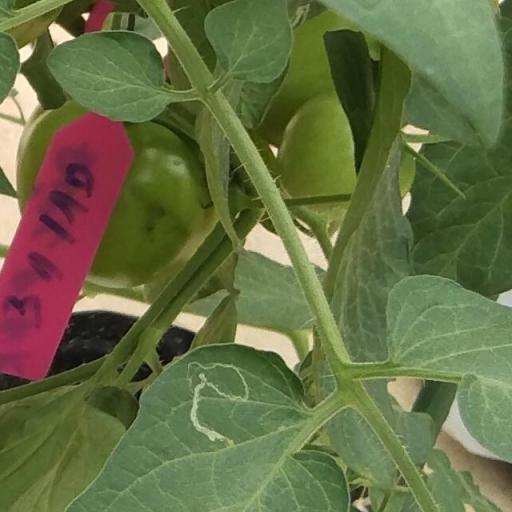Healthy: (44, 26, 175, 126), (202, 0, 294, 85)
Leaf_Miner: (62, 341, 350, 512)
